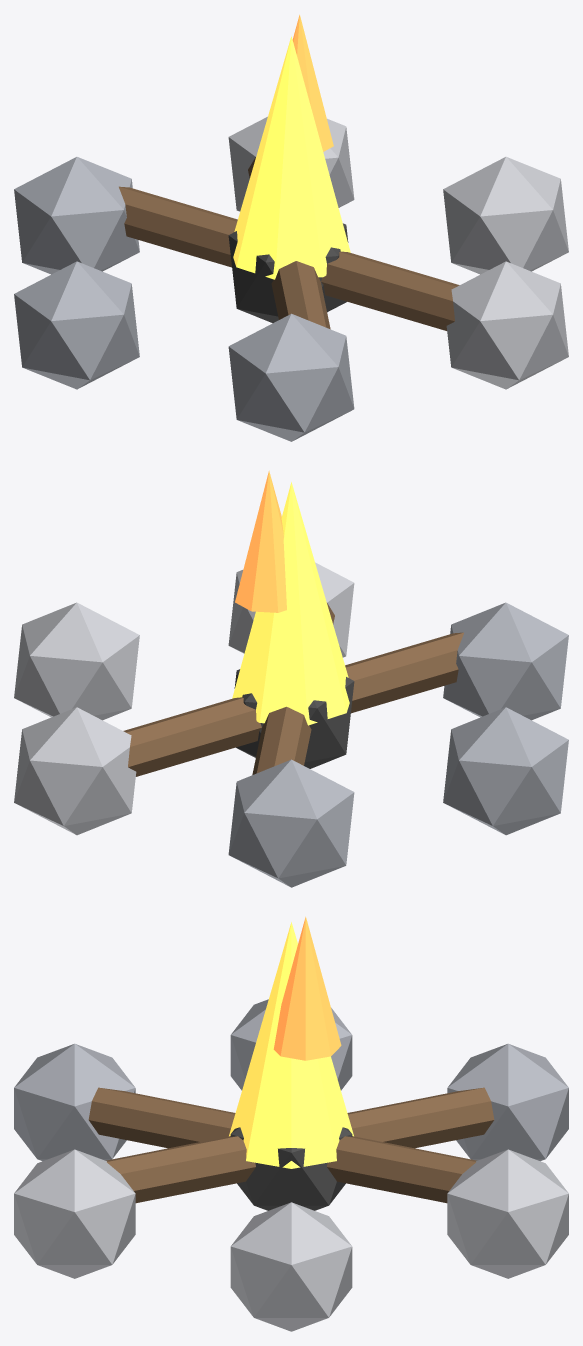
The model's file is fogata_meta_lev1.glb.
3 renders of one model, top to bottom at view 1: azimuth 30°, elevation 25°; view 2: azimuth 150°, elevation 25°; view 3: azimuth 270°, elevation 25°, orthographic.
Visible parts, largest first — view 1: fogata_meta_lev1; view 2: fogata_meta_lev1; view 3: fogata_meta_lev1.
Part boxes in pixels (<box>): fogata_meta_lev1: <box>14,14,568,441</box>; fogata_meta_lev1: <box>14,470,568,887</box>; fogata_meta_lev1: <box>14,916,568,1331</box>.
Size of the model in its own units: 1.76 by 0.98 by 1.55.
